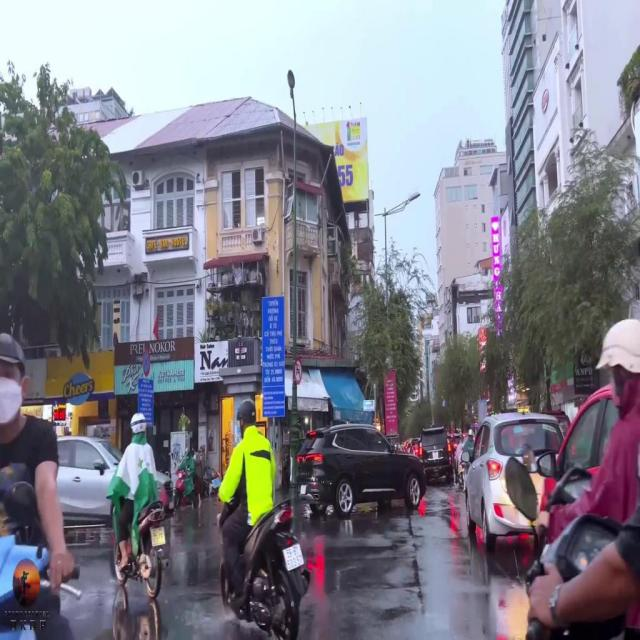cam_dung_xe_va_do_xe: (142, 348, 150, 376)
cam_o_to: (294, 358, 302, 384)
